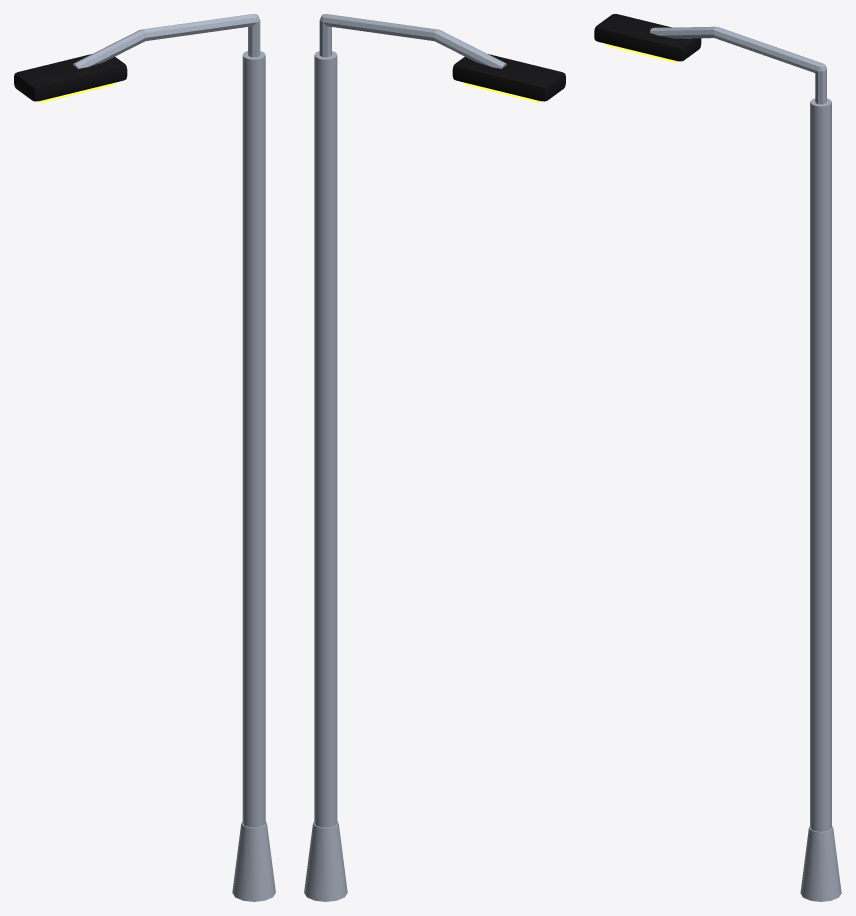
The model's file is lamp_post.glb.
The picture shows the model from 3 angles, left to right: view 1: azimuth 30°, elevation 25°; view 2: azimuth 150°, elevation 25°; view 3: azimuth 330°, elevation 25°; orthographic projection. The views are drawn at different scales.
Visible parts, largest first — view 1: steel, plastic_black; view 2: steel, plastic_black; view 3: steel, plastic_black.
Boxes of the visible parts, left/top/right/bottom form: steel: left=73, top=14, right=275, bottom=901; plastic_black: left=14, top=54, right=127, bottom=101; steel: left=304, top=14, right=506, bottom=901; plastic_black: left=452, top=54, right=565, bottom=101; steel: left=650, top=26, right=841, bottom=901; plastic_black: left=594, top=14, right=701, bottom=61.
Size of the model in its own units: 2.25 by 7.65 by 0.34.
